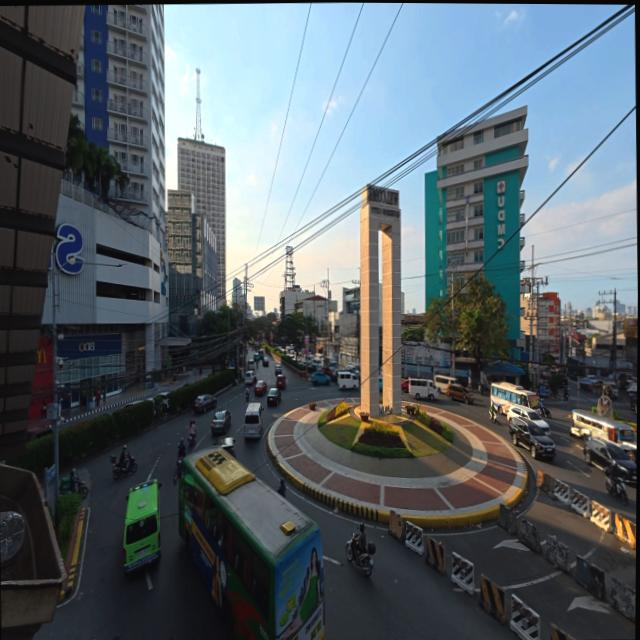Jeepneys: (570, 409, 636, 463)
bus: (177, 449, 324, 639), (490, 383, 538, 414)
car: (583, 437, 636, 482), (508, 419, 555, 459), (506, 405, 549, 435), (445, 383, 473, 404), (214, 437, 235, 458), (211, 410, 230, 433), (193, 395, 216, 414), (26, 426, 51, 442), (310, 370, 329, 385), (154, 392, 168, 412), (266, 388, 280, 405), (121, 400, 143, 409), (243, 371, 256, 386), (322, 367, 335, 381), (254, 381, 266, 396), (275, 373, 286, 389), (332, 369, 346, 381), (401, 379, 408, 392), (306, 360, 313, 372), (377, 374, 382, 390), (273, 364, 280, 375), (246, 360, 253, 370), (261, 357, 267, 366), (258, 350, 263, 360), (253, 353, 258, 361), (289, 352, 294, 359), (634, 406, 636, 414)
motorcycle: (345, 534, 374, 577), (604, 472, 627, 505), (110, 453, 136, 479), (172, 455, 183, 485), (58, 479, 72, 494), (538, 403, 550, 418), (478, 384, 489, 397), (489, 410, 498, 425), (187, 431, 195, 447), (563, 388, 568, 400), (245, 391, 250, 402)
vans: (123, 479, 160, 574), (243, 403, 262, 438), (408, 378, 437, 400), (433, 375, 459, 392), (336, 372, 358, 390), (246, 360, 253, 370)
